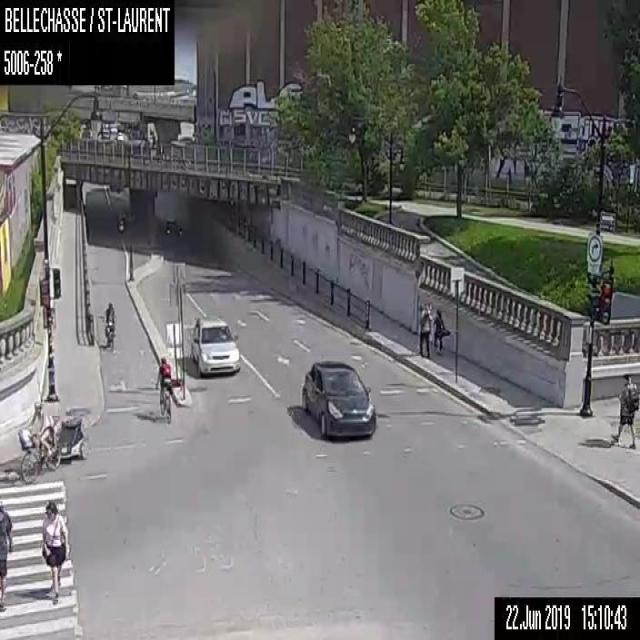cyclist: (18, 400, 88, 483), (154, 356, 171, 423), (103, 302, 115, 349)
pedestrian: (41, 499, 70, 603), (610, 371, 639, 448), (0, 500, 13, 611), (432, 308, 450, 354), (419, 307, 433, 360)
vehicle: (301, 360, 376, 437), (190, 316, 239, 375), (164, 217, 182, 235)
